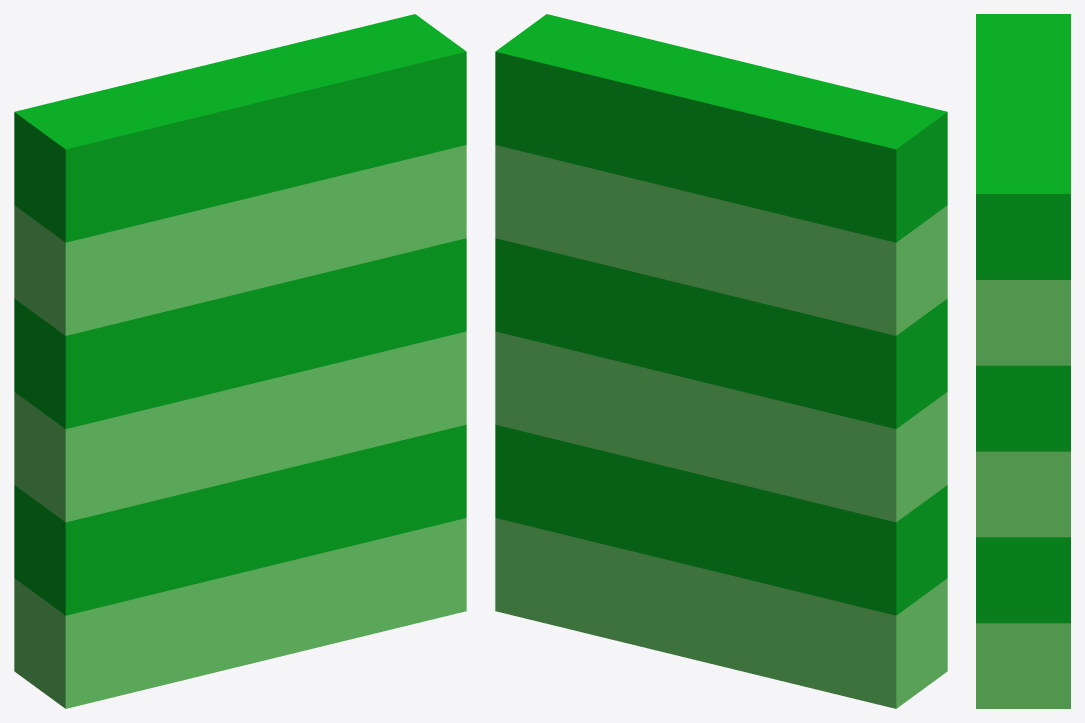
The model's file is Finish_block.fbx.
3 renders of one model, left to right at view 1: azimuth 30°, elevation 25°; view 2: azimuth 150°, elevation 25°; view 3: azimuth 270°, elevation 25°, orthographic. The views are drawn at different scales.
Visible parts, largest first — view 1: Finish_block; view 2: Finish_block; view 3: Finish_block.
Part boxes in pixels (x1,y1,x2,y2): Finish_block: (14, 14, 466, 708); Finish_block: (495, 14, 947, 708); Finish_block: (976, 14, 1070, 708).
Size of the model in its own units: 900 by 1200 by 200.
